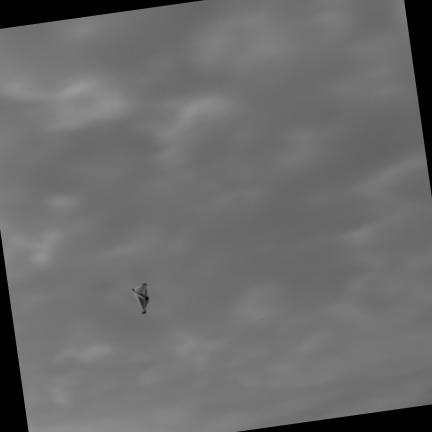Shahed: (132, 282, 148, 313)
